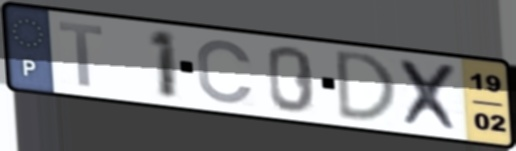0: (265, 44, 316, 115)
1: (147, 28, 184, 104)
C: (194, 38, 257, 107)
D: (334, 48, 400, 123)
T: (55, 19, 107, 91)
X: (395, 56, 466, 136)
